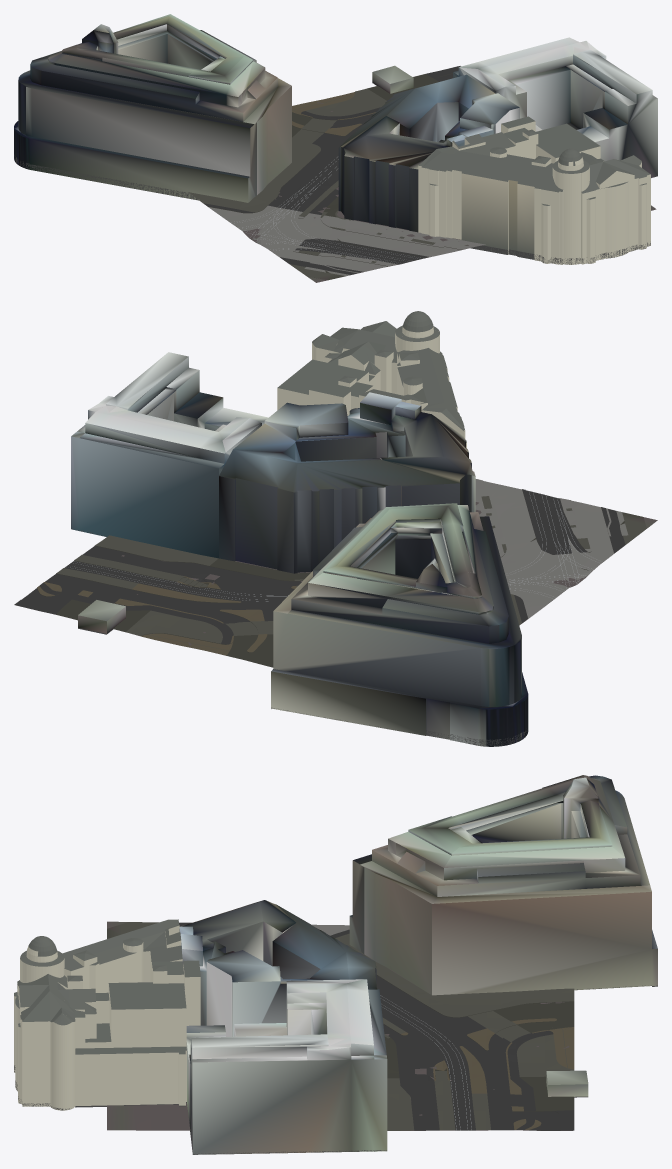
3 renders of one model, top to bottom at view 1: azimuth 30°, elevation 25°; view 2: azimuth 150°, elevation 25°; view 3: azimuth 270°, elevation 25°, orthographic. The views are drawn at different scales.
Visible parts, largest first — view 1: c_m06_m01; view 2: c_m06_m01; view 3: c_m06_m01.
Boxes of the visible parts, x1,y1,x2,y2 form: c_m06_m01: [14, 14, 657, 282]; c_m06_m01: [14, 311, 657, 746]; c_m06_m01: [14, 775, 657, 1154].
Bounding box in the file's own units: 177 × 46.21 × 176.
